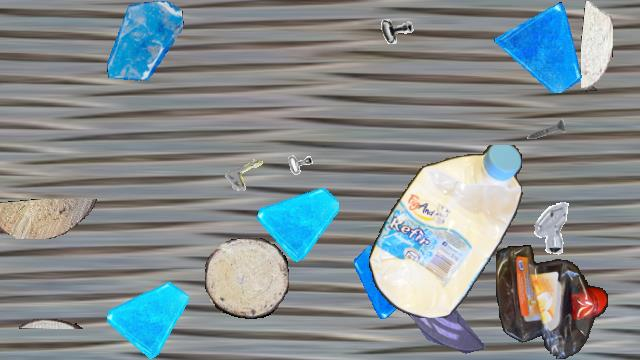glass: (494, 1, 586, 93), (401, 275, 485, 359), (107, 277, 189, 359), (257, 180, 339, 262), (105, 1, 185, 81), (354, 243, 430, 319)
metal: (221, 141, 281, 201), (520, 197, 578, 255), (275, 151, 325, 201), (525, 108, 567, 150), (377, 9, 417, 49)
plastic: (368, 145, 524, 317), (496, 245, 608, 359)
wood: (205, 238, 289, 318), (0, 199, 99, 239), (581, 1, 613, 91), (19, 319, 83, 329)
